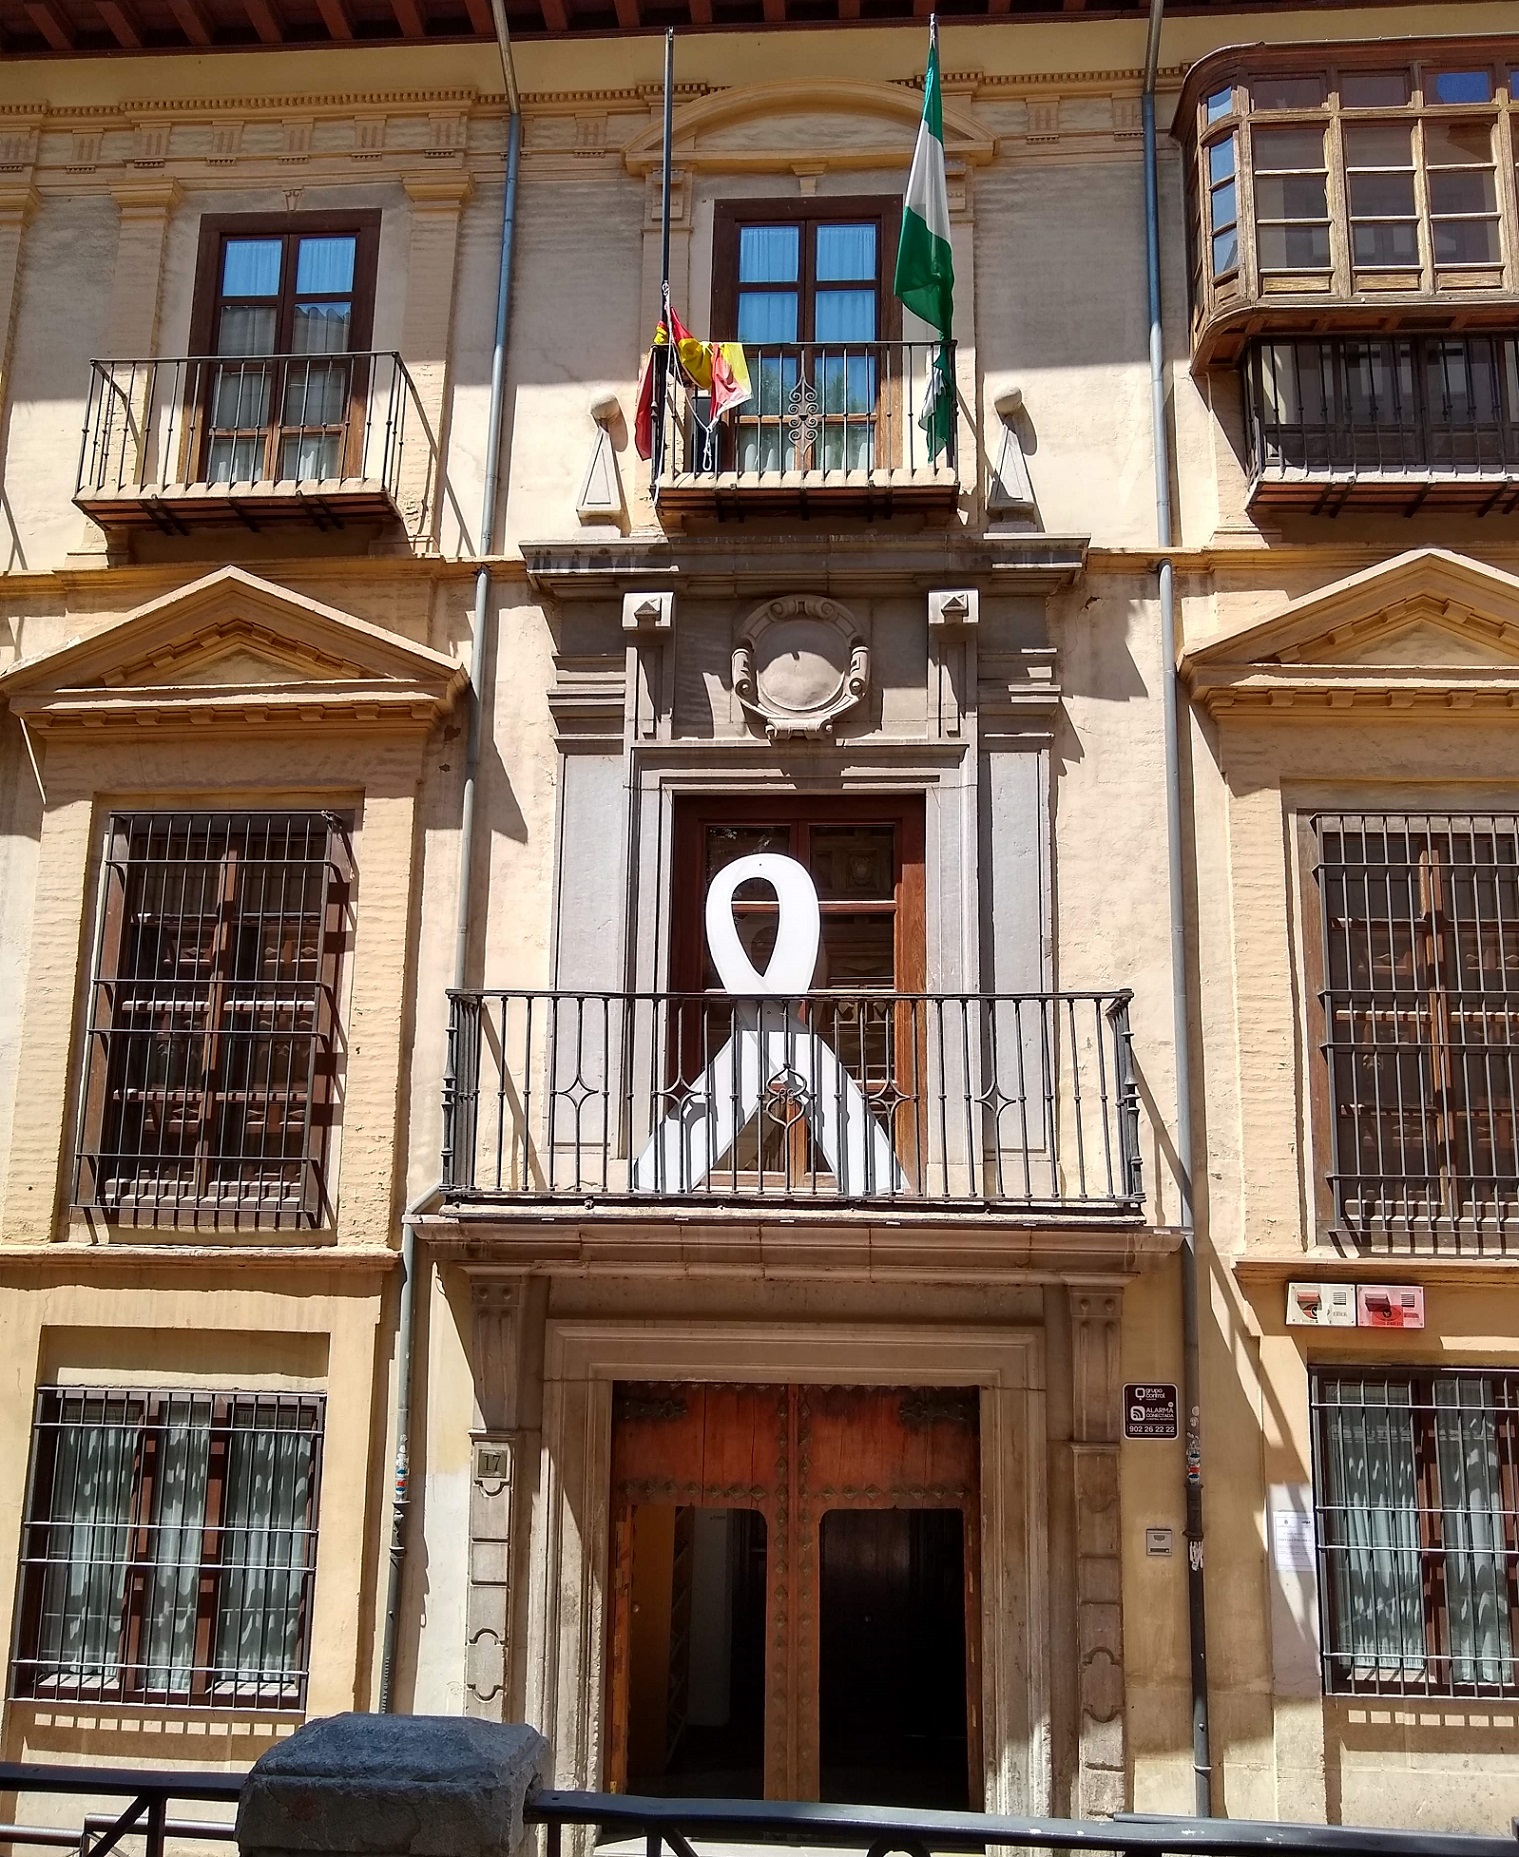fronton: (2, 561, 481, 748), (1164, 537, 1519, 713)
fronton-curvo: (618, 79, 1004, 190)
vano-adintelado: (612, 733, 982, 1205), (52, 776, 379, 1260), (1271, 770, 1519, 1265), (157, 190, 399, 489), (694, 187, 922, 480)
